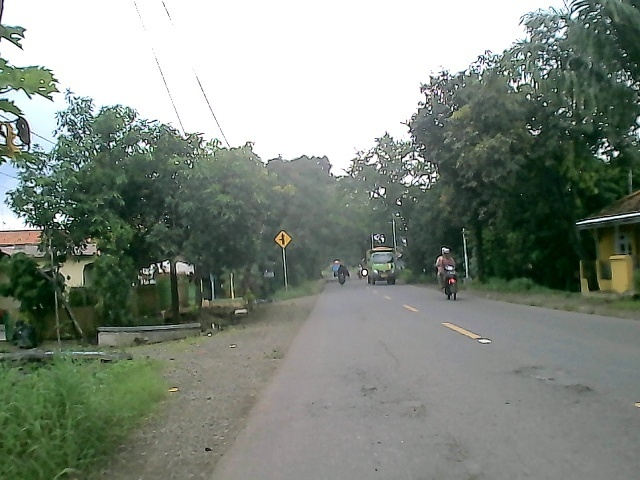Simpang kiri dengan prioritas: (273, 230, 294, 250)
